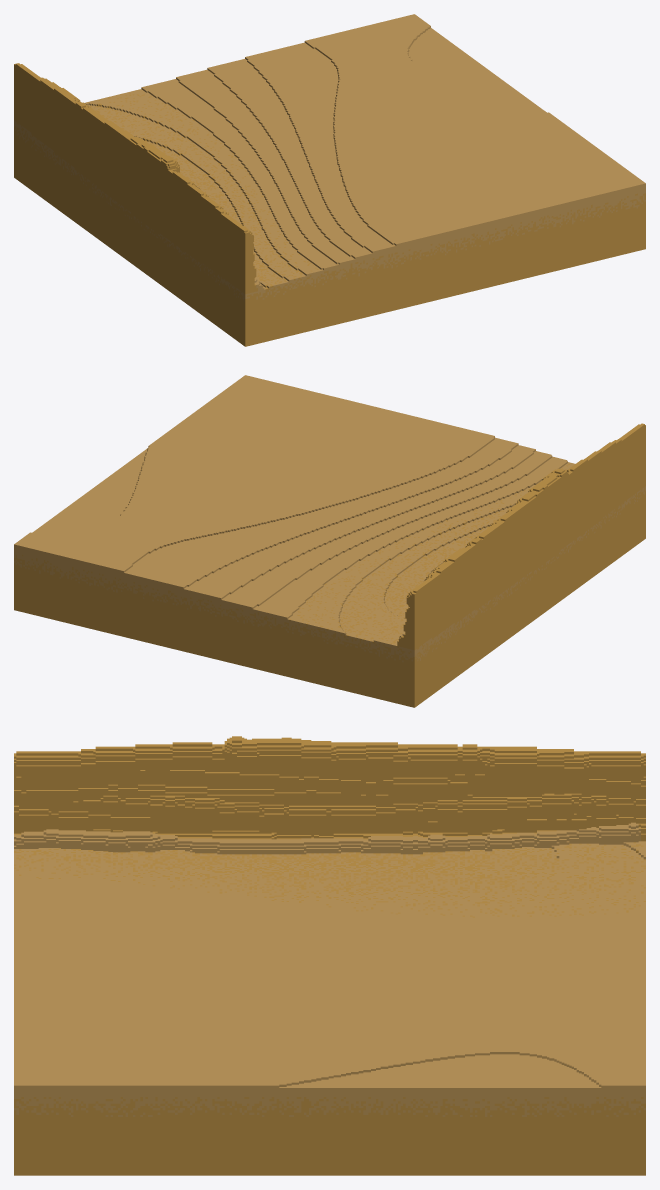
Rendered from Marte-11.obj.
3 renders of one model, top to bottom at view 1: azimuth 30°, elevation 25°; view 2: azimuth 150°, elevation 25°; view 3: azimuth 270°, elevation 25°, orthographic. The views are drawn at different scales.
Bounding box in the file's own units: 25.5 × 7.7 × 25.5.
1 material, 1 textured.
